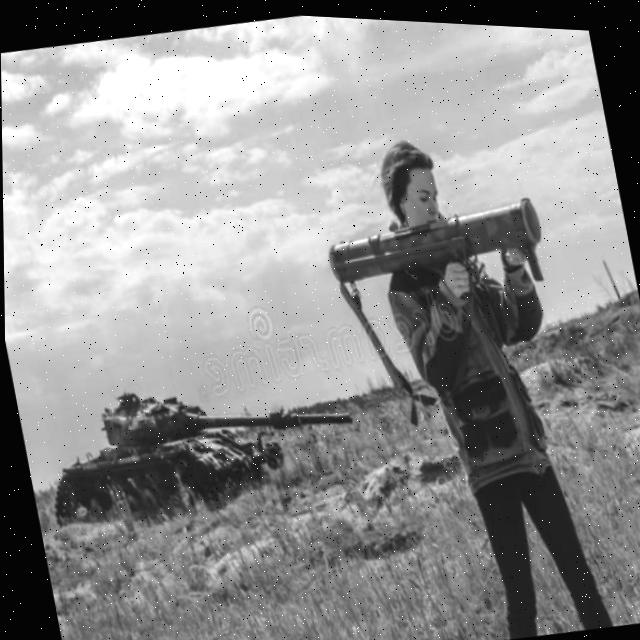rocket: (312, 169, 565, 317)
